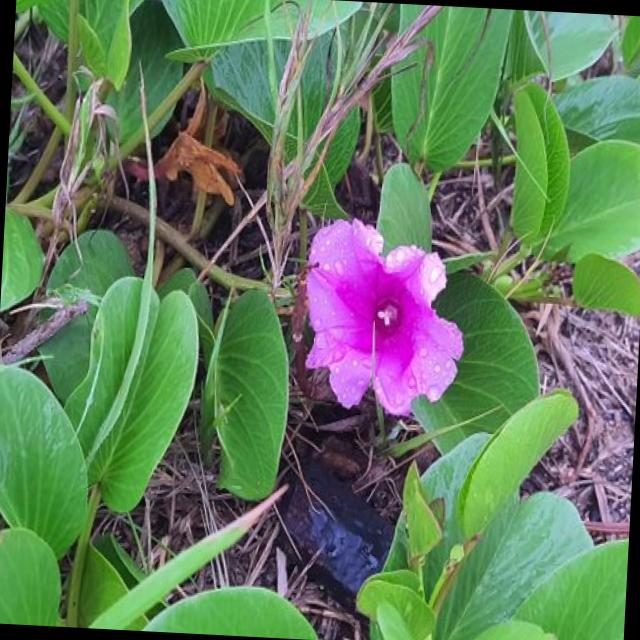ipomoea: (293, 212, 472, 424)
